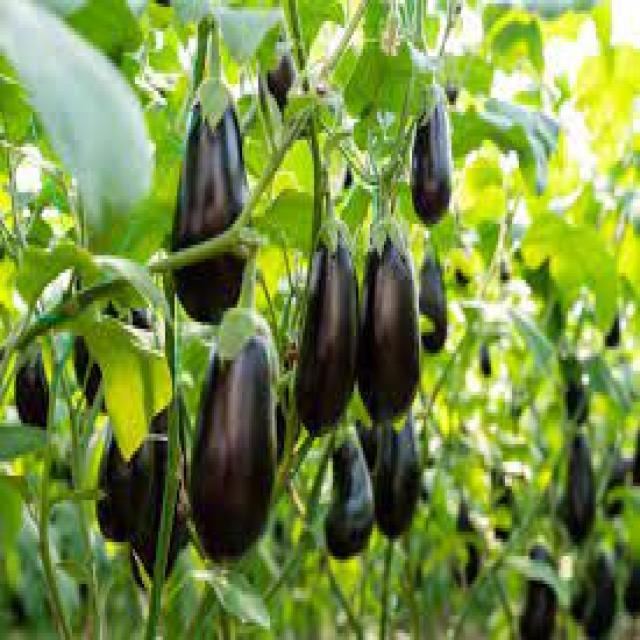Eggplant: (186, 284, 282, 568), (175, 44, 251, 322), (294, 202, 361, 442), (357, 192, 417, 426), (98, 321, 152, 544), (137, 358, 188, 579), (319, 401, 376, 558), (408, 70, 454, 228), (375, 395, 423, 539), (556, 424, 600, 542), (12, 326, 59, 436), (260, 36, 301, 154), (521, 539, 560, 640), (582, 531, 618, 640)
